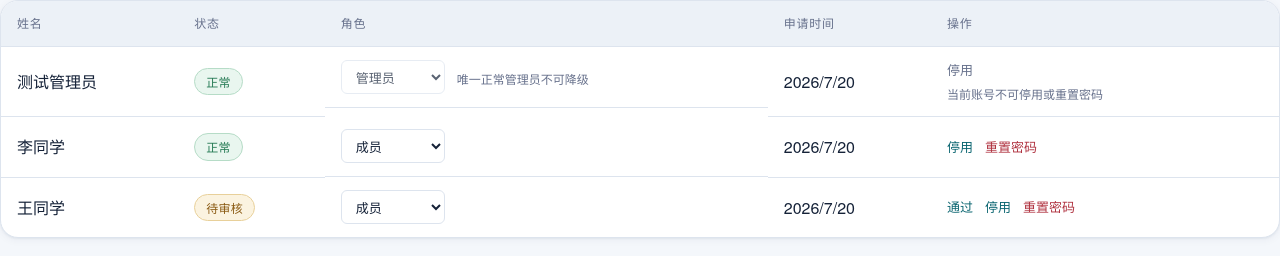
Test: AdminMembers › syncs the role draft again after a successful save
Select "编辑" in the dropdown named "调整 李同学 的角色" at (393, 146), box [341, 130, 445, 164]
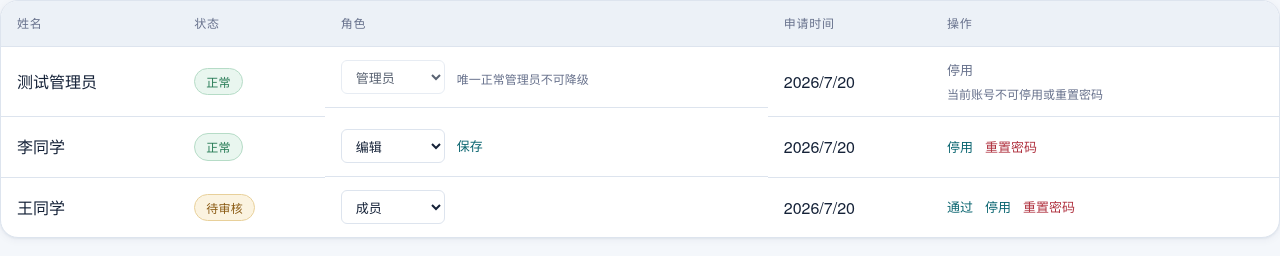
Click the button "保存".
click(470, 146)  # box [457, 136, 483, 157]
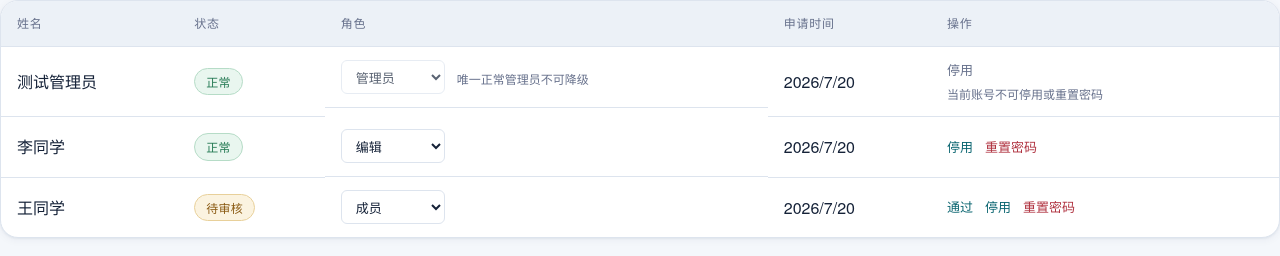
expect the dropdown named "调整 李同学 的角色" shows "编辑": met, box [341, 130, 445, 164]
// 保存成功后 dirty 标记已清除，后续刷新重新跟随服务端角色
Click the button "通过".
click(960, 208)  # box [947, 197, 973, 218]
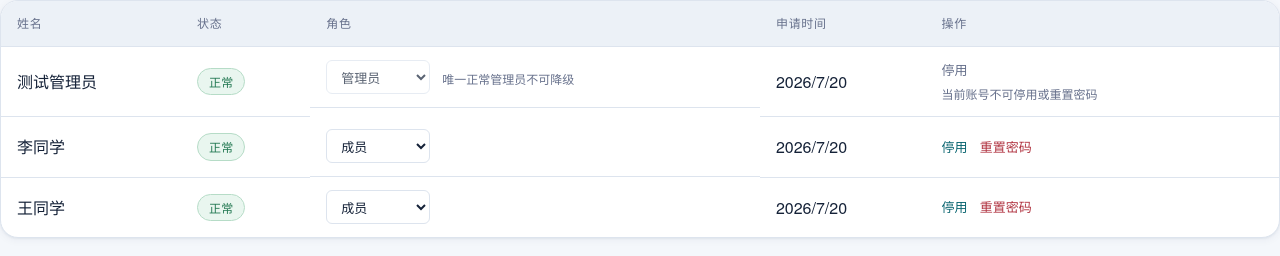
expect the dropdown named "调整 李同学 的角色" shows "成员": met, box [326, 130, 430, 164]
